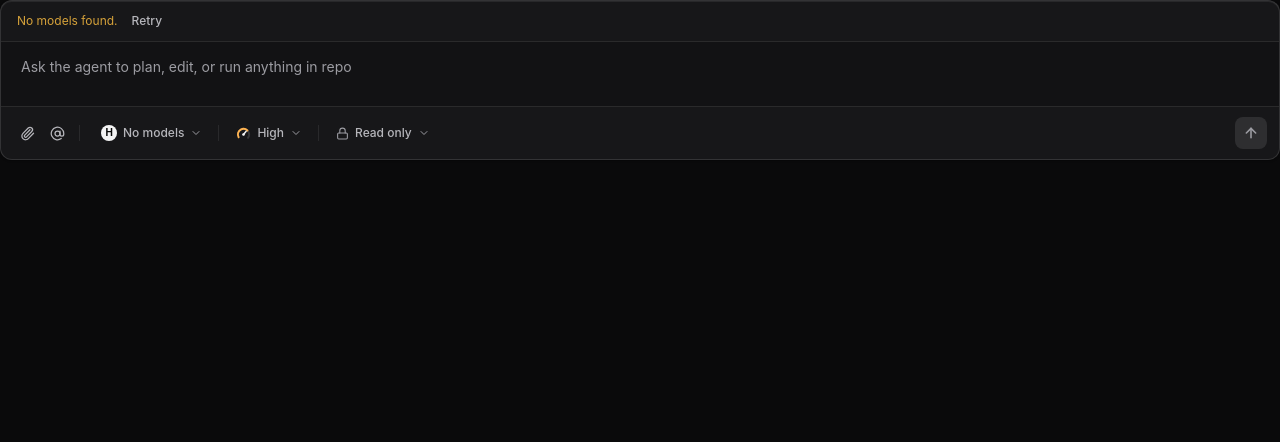
Test case: Composer › keeps a read-only thread on Read only until another mode is chosen
This screenshot has width=1280, height=442.
Later steps or results of the test are not shown.
Click the button with aria-label "Permissions" at point(382, 133), box [325,119,440,147]
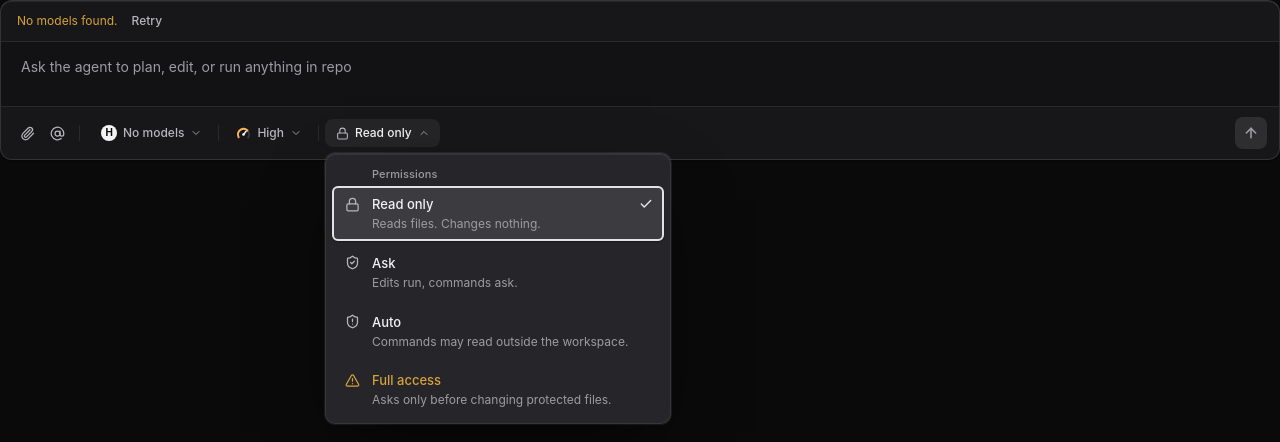
expect the number of options is 4: met, box [332,186,664,241]; [332,245,664,300]; [332,304,664,358]; [332,362,664,417]
